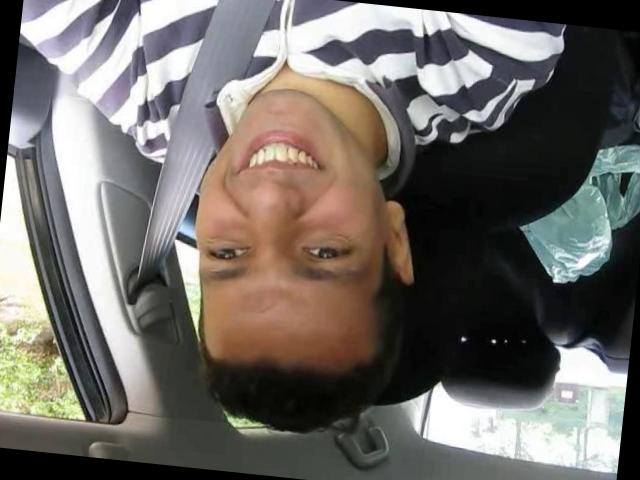eye_open: (300, 238, 356, 268), (200, 237, 254, 268)
face: (180, 82, 388, 314)
